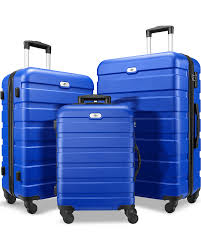suitcase: (95, 24, 201, 213), (1, 40, 95, 213), (53, 95, 139, 224)
